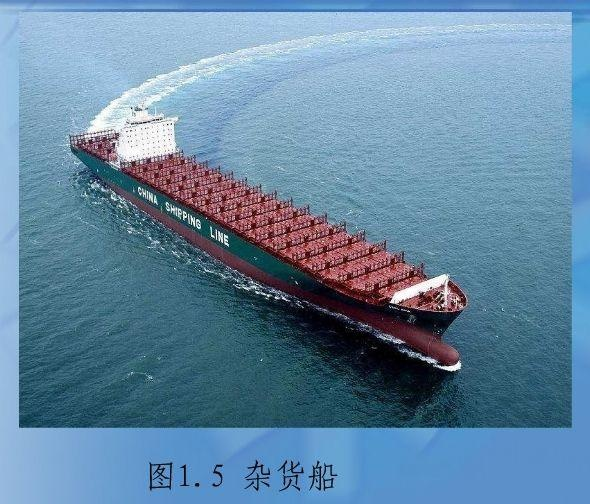Cargoship: (68, 98, 470, 370)
